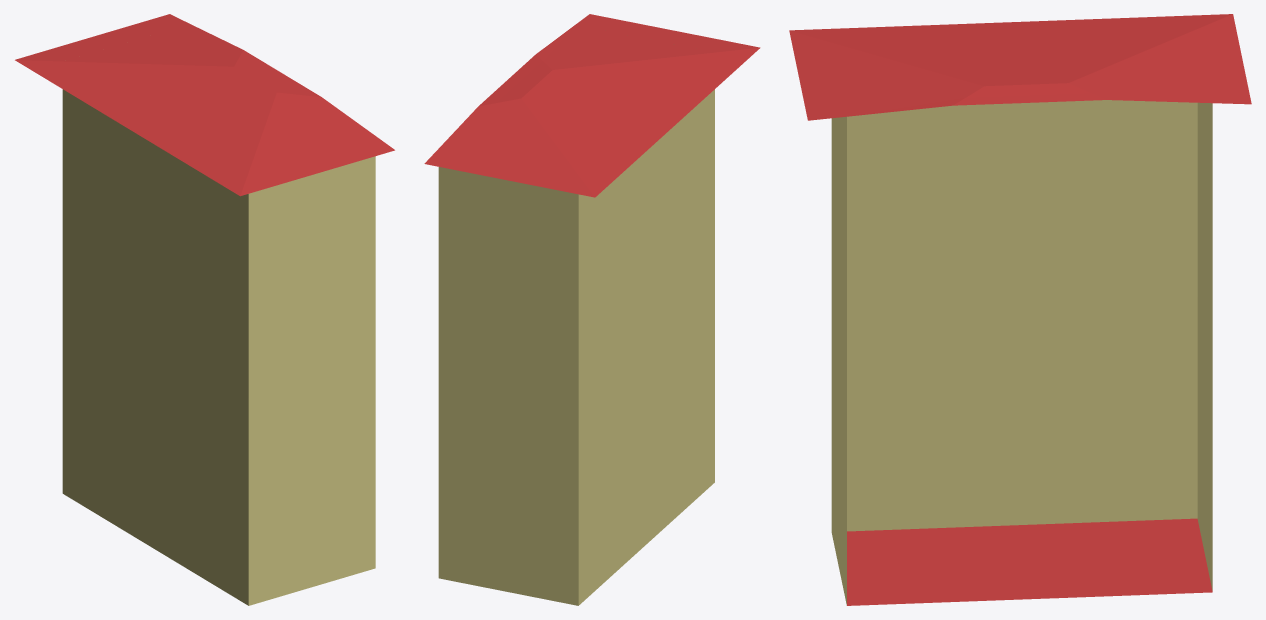
3 views of the same model, side by side, from view 1: azimuth 30°, elevation 25°; view 2: azimuth 150°, elevation 25°; view 3: azimuth 270°, elevation 25° (orthographic). The views are drawn at different scales.
Size of the model in its own units: 4.84 by 8.87 by 10.55.
